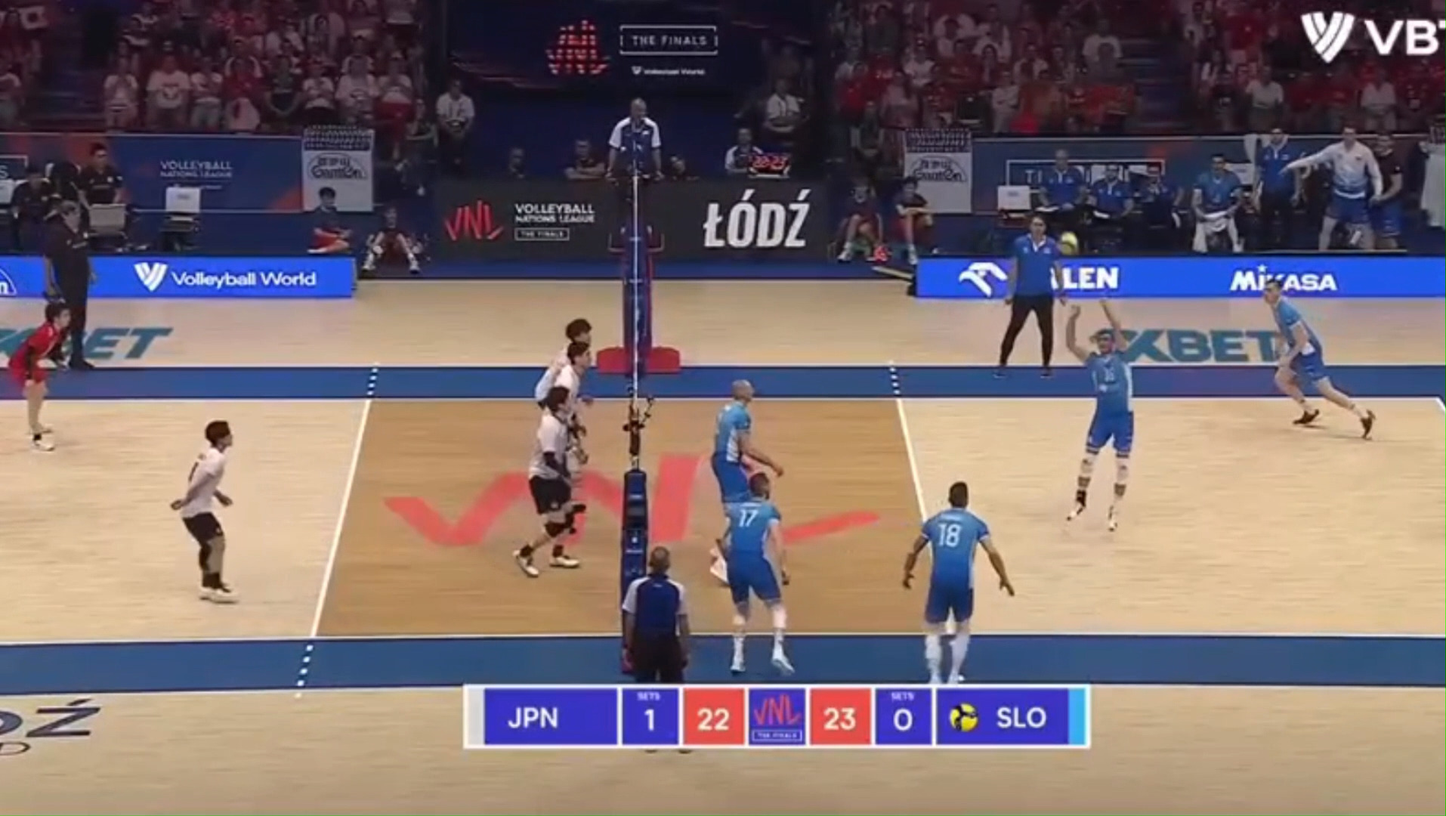ball: (1057, 231, 1078, 255)
player: (902, 481, 1014, 684), (1262, 278, 1375, 437), (1066, 301, 1134, 530), (718, 471, 793, 674), (709, 380, 783, 583)
player 1: (514, 385, 586, 577), (169, 420, 234, 603), (8, 301, 71, 450), (534, 318, 592, 400), (544, 342, 591, 419)
referee: (607, 98, 665, 274), (998, 217, 1061, 374), (621, 547, 691, 683), (44, 200, 94, 369)
